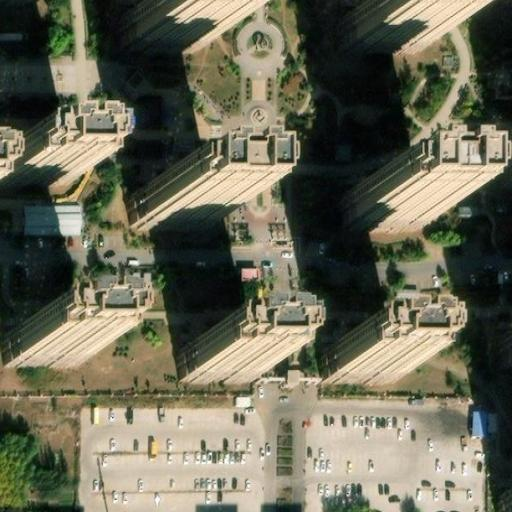building: (348, 178, 437, 219), (10, 313, 90, 358), (351, 1, 439, 40), (137, 180, 225, 219), (326, 331, 406, 372), (183, 333, 262, 374), (2, 208, 68, 241), (140, 0, 231, 23), (490, 334, 512, 378), (468, 409, 496, 438), (496, 151, 512, 187)
